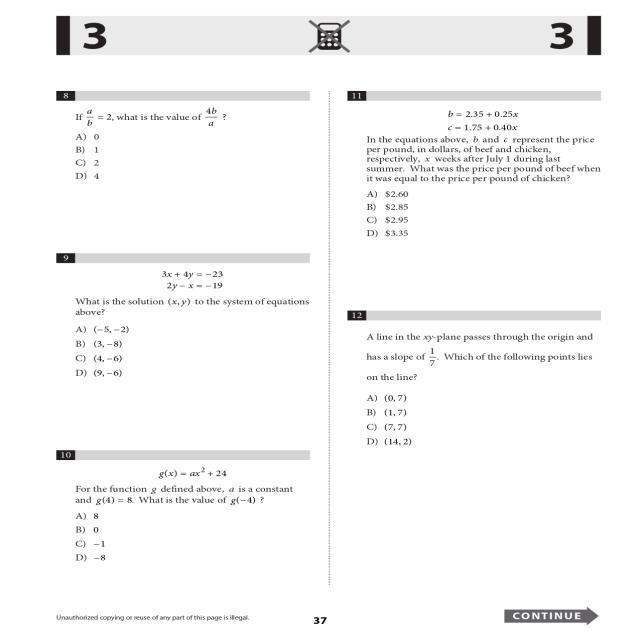Answer_Block: (49, 129, 324, 244), (336, 384, 607, 460), (49, 318, 324, 385), (48, 510, 326, 572), (335, 188, 608, 242)
Question_Answer_Block: (50, 85, 322, 245), (336, 84, 608, 243), (334, 302, 607, 460), (49, 253, 323, 387), (48, 442, 326, 572)
Question_Block: (336, 82, 610, 186), (334, 302, 607, 384), (47, 442, 326, 509), (48, 252, 323, 319), (50, 84, 323, 129)
Question_Paper_Area: (50, 85, 324, 575), (336, 84, 608, 574)
